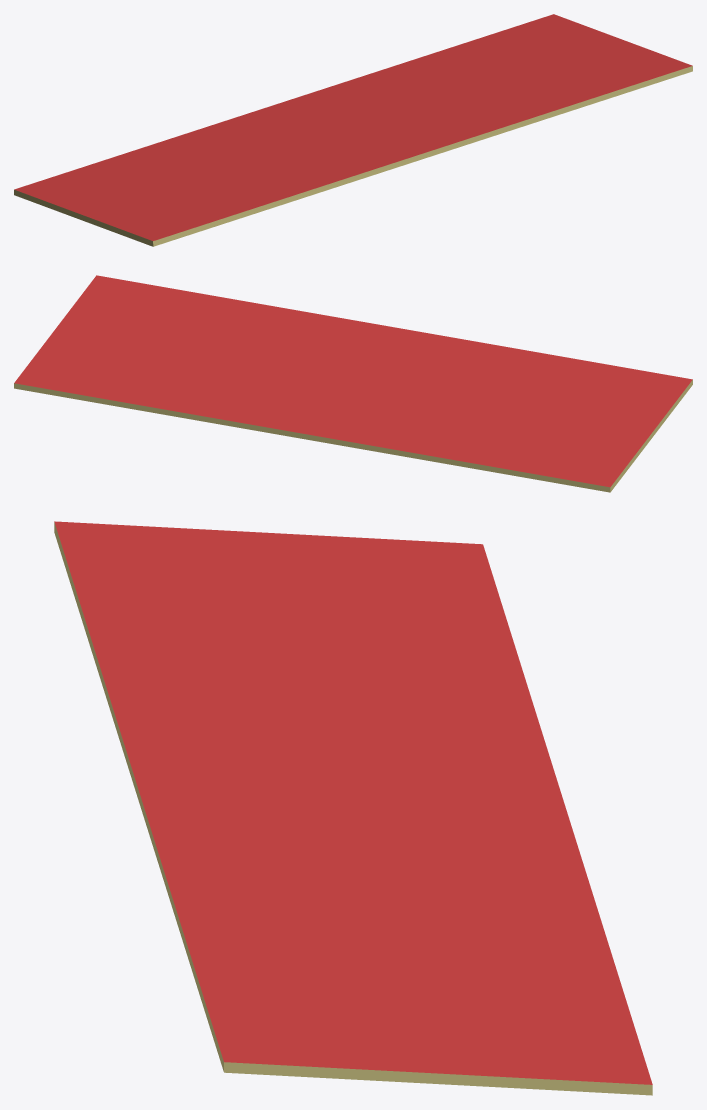
The picture shows the model from 3 angles, top to bottom: view 1: azimuth 30°, elevation 25°; view 2: azimuth 150°, elevation 25°; view 3: azimuth 270°, elevation 25°; orthographic projection. The views are drawn at different scales.
Size of the model in its own units: 11.44 by 5.13 by 0.543.
